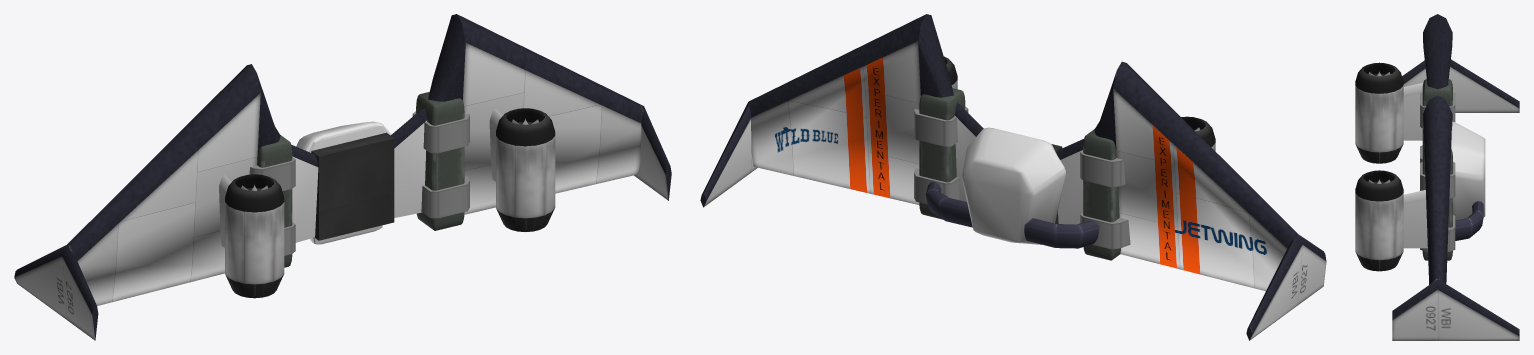
The model's file is JetWing.FBX.
3 renders of one model, left to right at view 1: azimuth 30°, elevation 25°; view 2: azimuth 150°, elevation 25°; view 3: azimuth 270°, elevation 25°, orthographic. The views are drawn at different scales.
Visible parts, largest first — view 1: Wing002, Wing001, BackMount, Engine001, Engine002, Tail002, FuelTank001, WingRoot001, HeadGuard001, WingRoot002, Tail001, LowerBracket001 (+6 smaller); view 2: Wing002, Wing001, cap, Box042, Tail002, FuelTank001, FuelTank002, Tail001, HeadGuard001, ArchBrace003, WingRoot002, LowerBracket004 (+7 smaller); view 3: Tail001, Engine002, Engine001, Wing001, Tail002, HeadGuard002, cap, EnginePylon001, Box042, EnginePylon002, ArchBrace001, FuelTank002 (+4 smaller).
Boxes of the visible parts, left/top/right/bottom form: Wing002: left=67, top=64, right=260, bottom=305; Wing001: left=456, top=14, right=643, bottom=214; BackMount: left=311, top=132, right=394, bottom=240; Engine001: left=496, top=108, right=555, bottom=231; Engine002: left=225, top=174, right=284, bottom=298; Tail002: left=14, top=244, right=98, bottom=340; FuelTank001: left=416, top=92, right=464, bottom=230; WingRoot001: left=391, top=107, right=427, bottom=217; HeadGuard001: left=428, top=14, right=465, bottom=101; WingRoot002: left=291, top=144, right=318, bottom=242; Tail001: left=634, top=105, right=671, bottom=200; LowerBracket001: left=421, top=176, right=469, bottom=218; Wing002: left=1113, top=61, right=1297, bottom=291; Wing001: left=749, top=14, right=926, bottom=204; cap: left=963, top=128, right=1063, bottom=192; Box042: left=962, top=127, right=1066, bottom=244; Tail002: left=1246, top=233, right=1326, bottom=340; FuelTank001: left=919, top=88, right=965, bottom=219; FuelTank002: left=1083, top=129, right=1120, bottom=260; Tail001: left=700, top=100, right=757, bottom=207; HeadGuard001: left=918, top=14, right=953, bottom=97; ArchBrace003: left=1024, top=218, right=1099, bottom=248; WingRoot002: left=1057, top=139, right=1083, bottom=224; LowerBracket004: left=1080, top=150, right=1125, bottom=187; Tail001: left=1392, top=279, right=1519, bottom=340; Engine002: left=1355, top=62, right=1403, bottom=163; Engine001: left=1355, top=170, right=1403, bottom=271; Wing001: left=1423, top=95, right=1452, bottom=284; Tail002: left=1402, top=59, right=1519, bottom=112; HeadGuard002: left=1423, top=14, right=1452, bottom=89; cap: left=1451, top=121, right=1485, bottom=175; EnginePylon001: left=1403, top=190, right=1427, bottom=248; Box042: left=1453, top=171, right=1485, bottom=220; EnginePylon002: left=1403, top=83, right=1423, bottom=140; ArchBrace001: left=1455, top=201, right=1483, bottom=240; FuelTank002: left=1422, top=79, right=1452, bottom=153.
Size of the model in its own units: 1.75 by 0.6062 by 0.5239.
